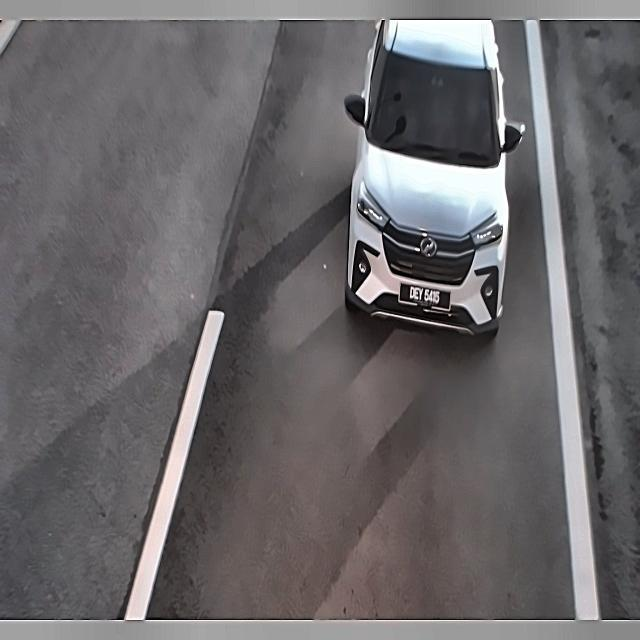car: (394, 271, 455, 315)
